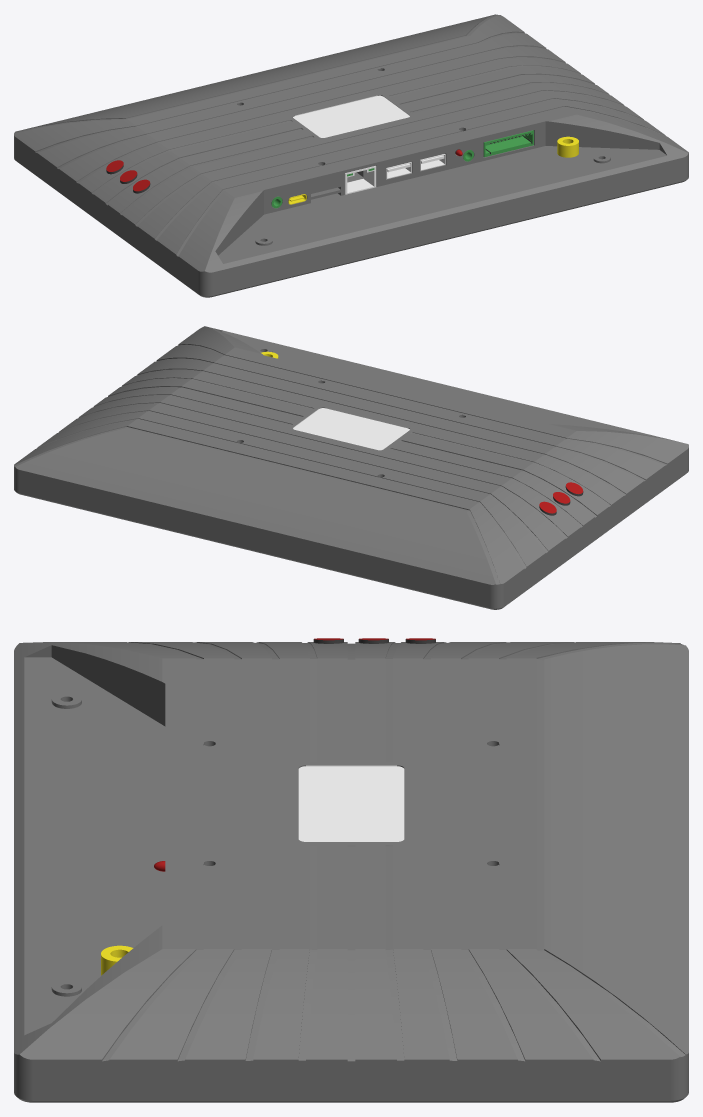
The model's file is AIO-CM4-101.fbx.
The picture shows the model from 3 angles, top to bottom: view 1: azimuth 30°, elevation 25°; view 2: azimuth 150°, elevation 25°; view 3: azimuth 270°, elevation 25°; orthographic projection. The views are drawn at different scales.
Parts seen in each view (by area): view 1: Part 169, Part 165, Part 163, Part 168; view 2: Part 169, Part 165, Part 168; view 3: Part 169, Part 165.
Part boxes in pixels (x1,y1,x2,y2): Part 169: [14, 14, 688, 297]; Part 165: [293, 95, 445, 194]; Part 163: [271, 130, 533, 208]; Part 168: [106, 149, 462, 191]; Part 169: [14, 326, 688, 609]; Part 165: [293, 407, 409, 450]; Part 168: [539, 482, 582, 513]; Part 169: [14, 642, 688, 1102]; Part 165: [298, 765, 404, 841].
Bounding box in the file's own units: 26.05 × 2.7 × 17.85.
